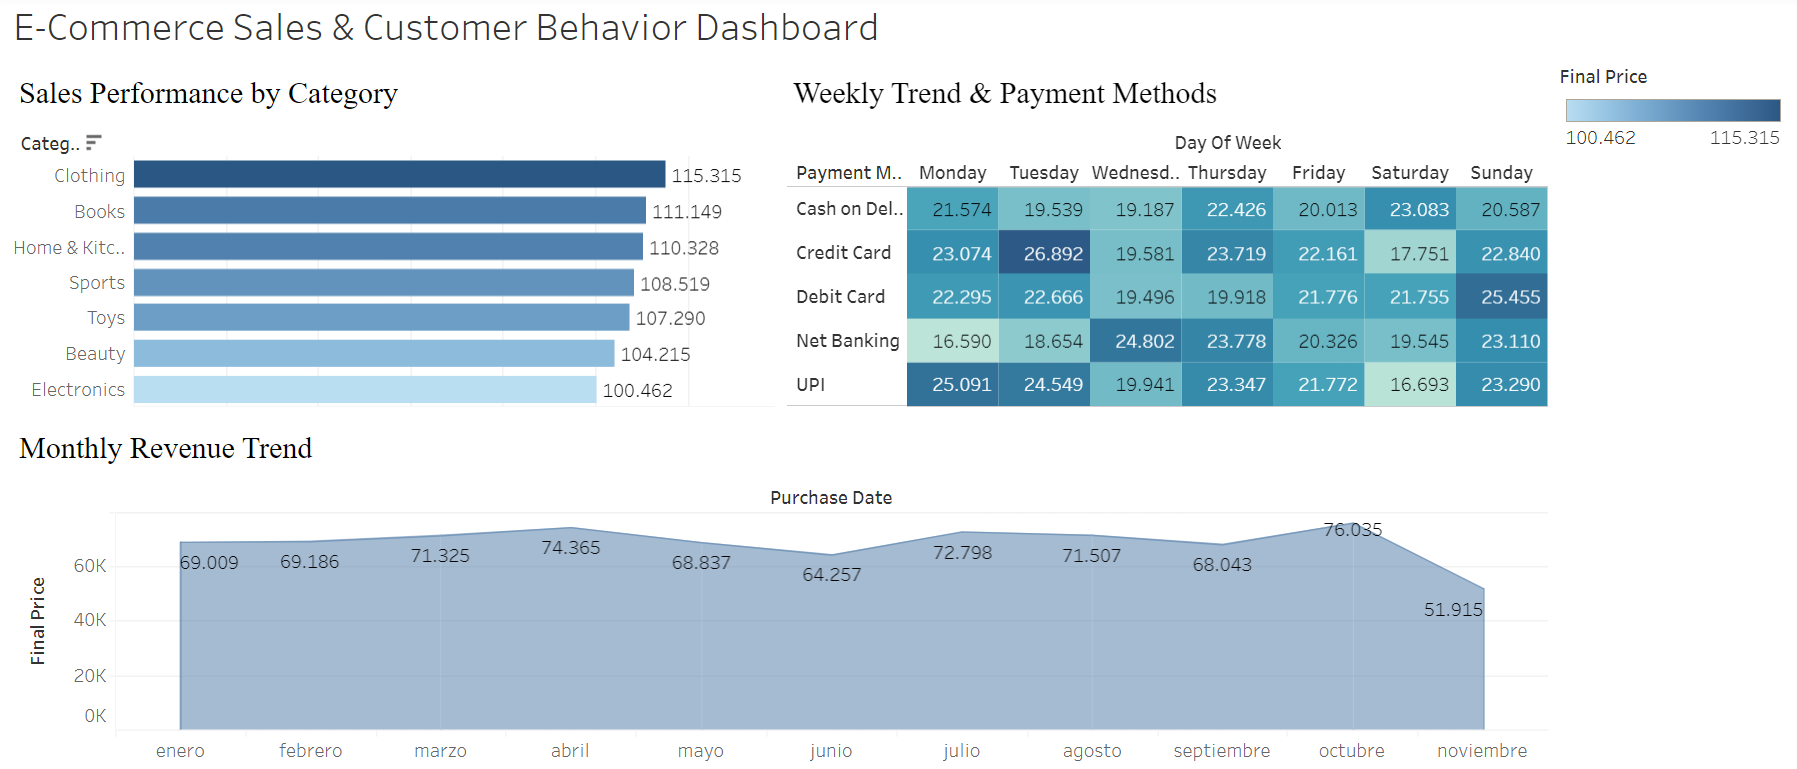

The page's visual inventory and layout, read from the dashboard file:
{"tool":"tableau","page":{"name":"E-Commerce Sales & Customer Behavior Dashboard","canvas":[1000,1000],"units":"permille","ordinal":0},"visuals":[{"type":"title","box":[5,9.1,990,66.1]},{"type":"worksheet","title":"Sales Performance by Category","mark":"Automatic","rows":["category"],"cols":["final_price"],"box":[5,75.2,445.1,457.9]},{"type":"worksheet","title":"Weekly Trend & Payment Methods","mark":"Square","rows":["payment_method"],"cols":["day_of_week"],"box":[450.1,75.2,445.1,457.9]},{"type":"legend","title":"Sales Performance by Category","param":"[federated.06p8xfy1yec4nj1azi7ko1kra7eb].[sum:final_price:qk]","box":[895.3,75.2,99.8,92.2]},{"type":"worksheet","title":"Monthly Revenue Trend","mark":"Area","rows":["final_price"],"cols":["purchase_date"],"box":[5,533,890.3,457.9]}]}

Visuals, with their boxes on the dashboard's canvas, which has no fixed pixel size, in thousandths of its width and height (x1, y1, x2, y2). These are canvas units, not pixel positions in the 1797x769 screenshot, which may show the page scaled, cropped or inside an application window:
title: [left=5, top=9, right=995, bottom=75]
"Sales Performance by Category" worksheet: [left=5, top=75, right=450, bottom=533]
"Weekly Trend & Payment Methods" worksheet (Square marks): [left=450, top=75, right=895, bottom=533]
"Sales Performance by Category" legend: [left=895, top=75, right=995, bottom=167]
"Monthly Revenue Trend" worksheet (Area marks): [left=5, top=533, right=895, bottom=991]
